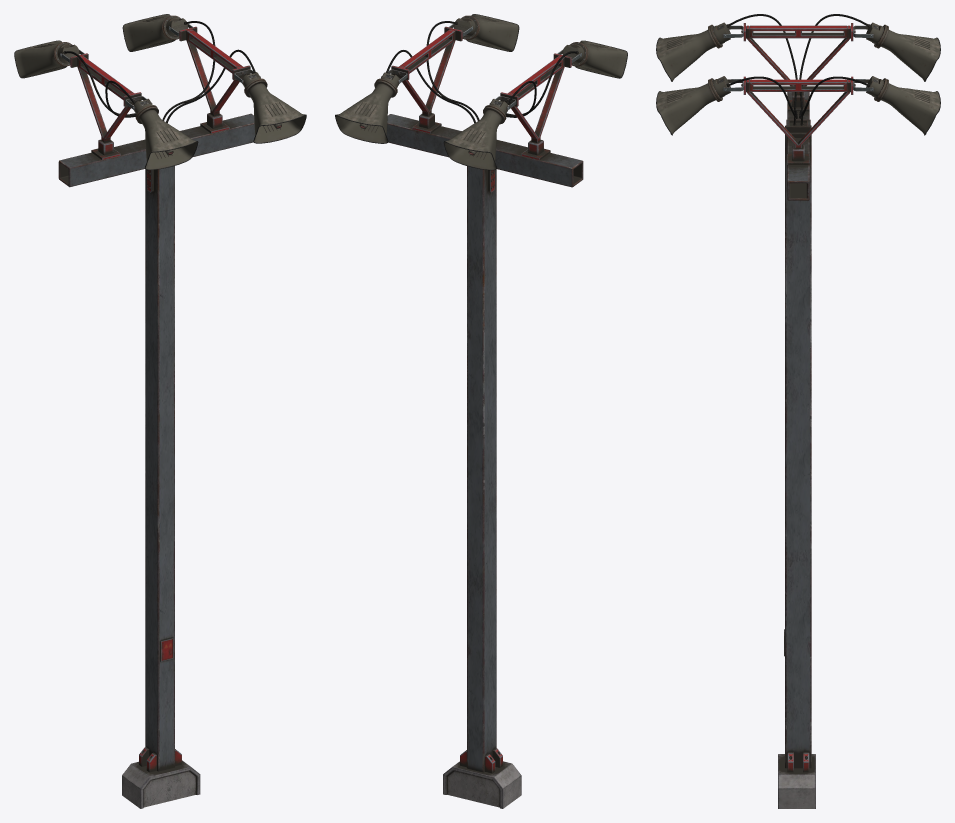
The model's file is speaker-transformed.glb.
The picture shows the model from 3 angles, left to right: view 1: azimuth 30°, elevation 25°; view 2: azimuth 150°, elevation 25°; view 3: azimuth 270°, elevation 25°; orthographic projection.
Visible parts, largest first — view 1: 01_01_0, Horn_Speaker_Horn Speaker_0, 02_02_0; view 2: 01_01_0, Horn_Speaker_Horn Speaker_0, 02_02_0; view 3: 01_01_0, Horn_Speaker_Horn Speaker_0, 02_02_0.
Boxes of the visible parts, box(x1,y1,x2,y2) form: 01_01_0: box(58, 113, 255, 808); Horn_Speaker_Horn Speaker_0: box(14, 14, 306, 170); 02_02_0: box(63, 21, 255, 772); 01_01_0: box(386, 114, 583, 808); Horn_Speaker_Horn Speaker_0: box(335, 14, 627, 170); 02_02_0: box(386, 21, 578, 773); 01_01_0: box(778, 92, 815, 808); Horn_Speaker_Horn Speaker_0: box(656, 22, 940, 135); 02_02_0: box(726, 14, 870, 772).
Bounding box in the file's own units: 1.53 × 5.63 × 1.94.
3 materials, 3 textured.
